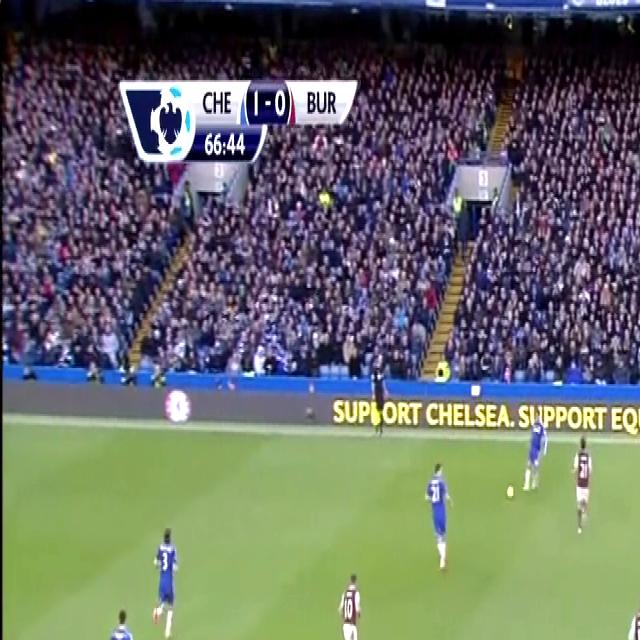ball: (502, 479, 518, 508)
referee: (361, 346, 396, 442)
soccer-player: (145, 514, 184, 640), (422, 449, 459, 576), (566, 430, 598, 540), (522, 402, 554, 500), (330, 563, 369, 640), (103, 599, 150, 640), (625, 597, 640, 640)
